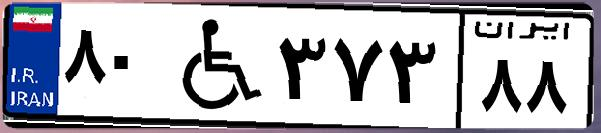0: (110, 28, 158, 98)
3: (270, 28, 330, 110), (385, 28, 445, 110)
7: (330, 28, 385, 110)
8: (57, 26, 110, 100), (475, 38, 525, 113), (525, 38, 570, 115)
ژ (معلولین و جانبازان): (158, 12, 270, 120)
